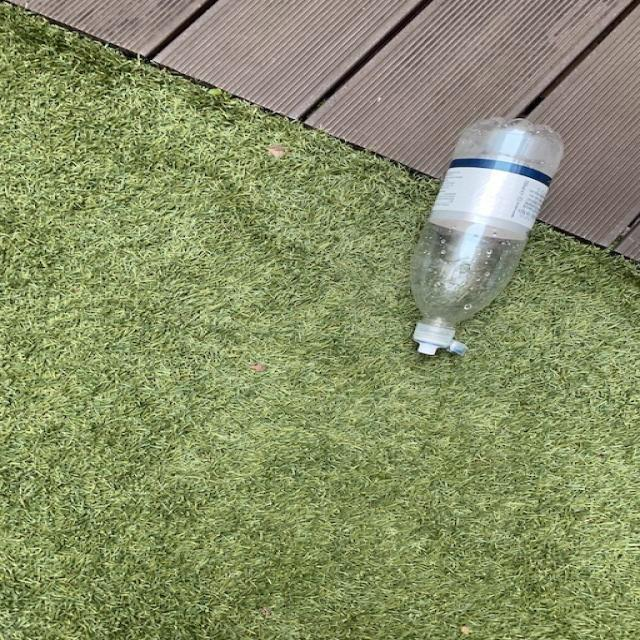bottle: (410, 118, 564, 355)
